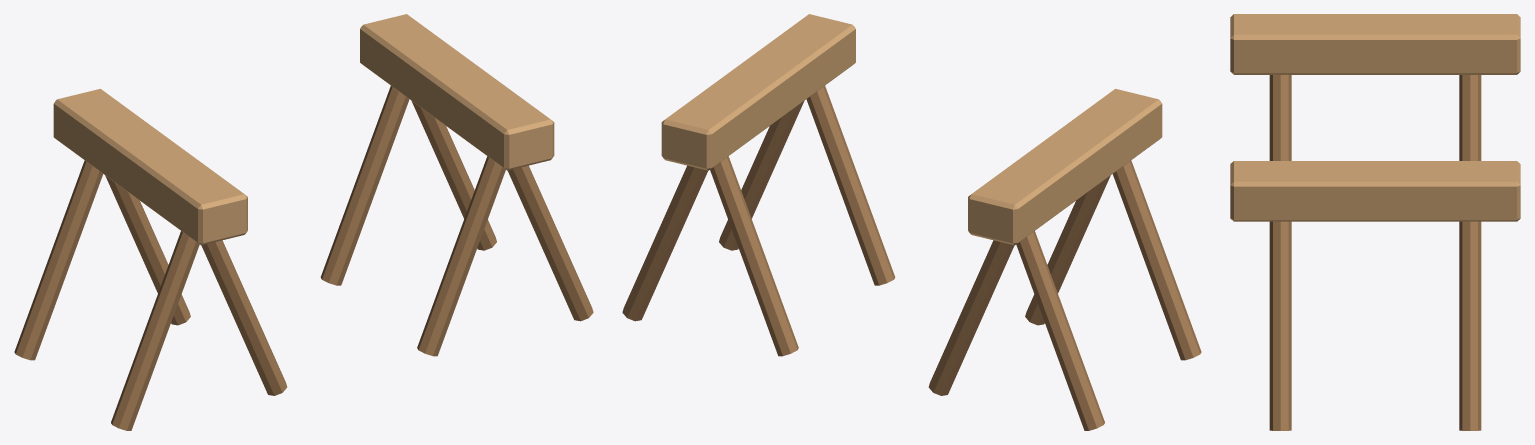
Rendered from Sawhorse_Pair.glb.
3 renders of one model, left to right at view 1: azimuth 30°, elevation 25°; view 2: azimuth 150°, elevation 25°; view 3: azimuth 270°, elevation 25°, orthographic.
Parts seen in each view (by area): view 1: Sawhorse_Pair; view 2: Sawhorse_Pair; view 3: Sawhorse_Pair.
Part boxes in pixels (left/top/right/bottom): Sawhorse_Pair: left=14, top=14, right=593, bottom=430; Sawhorse_Pair: left=622, top=14, right=1201, bottom=430; Sawhorse_Pair: left=1230, top=14, right=1520, bottom=430.
Size of the model in its own units: 1.72 by 0.7886 by 0.92.
